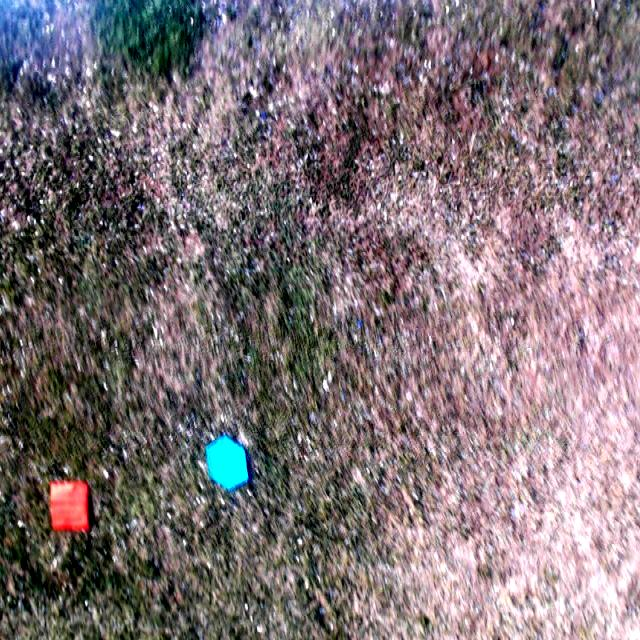blue_hexagon: (206, 438, 249, 490)
red_square: (50, 482, 89, 534)
